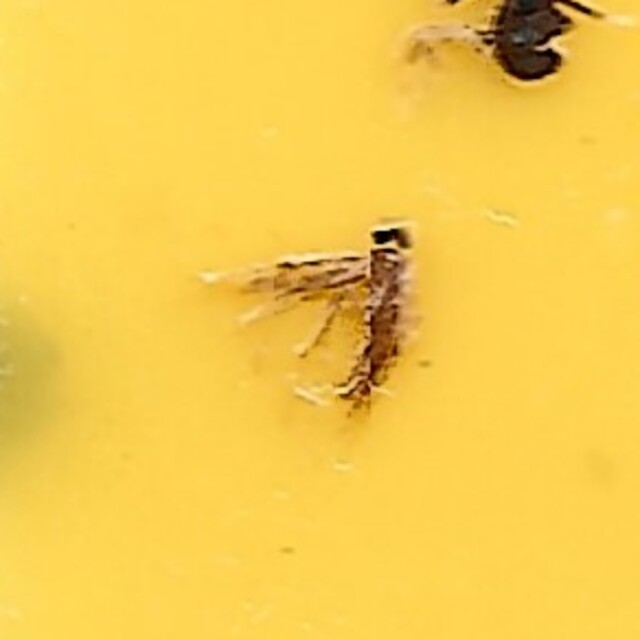Trichoptera: (219, 220, 421, 420)
